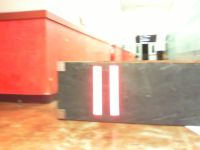switch: (108, 64, 120, 116), (92, 65, 103, 116)
